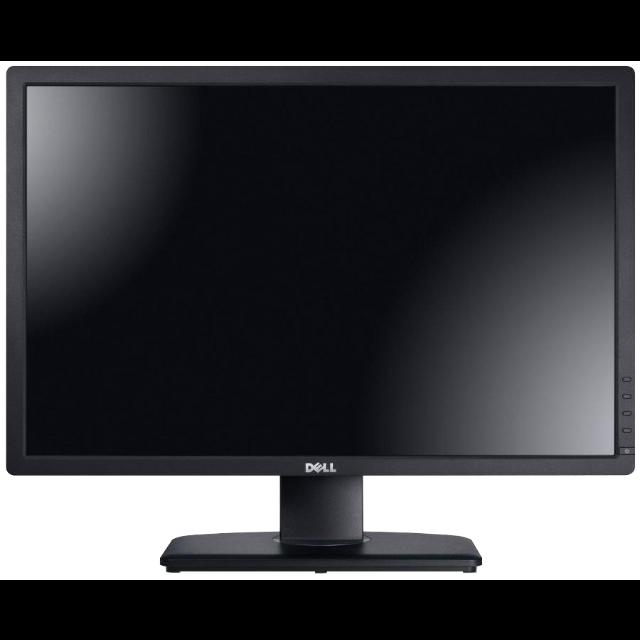Flat-Panel-Monitor: (1, 60, 637, 576)
